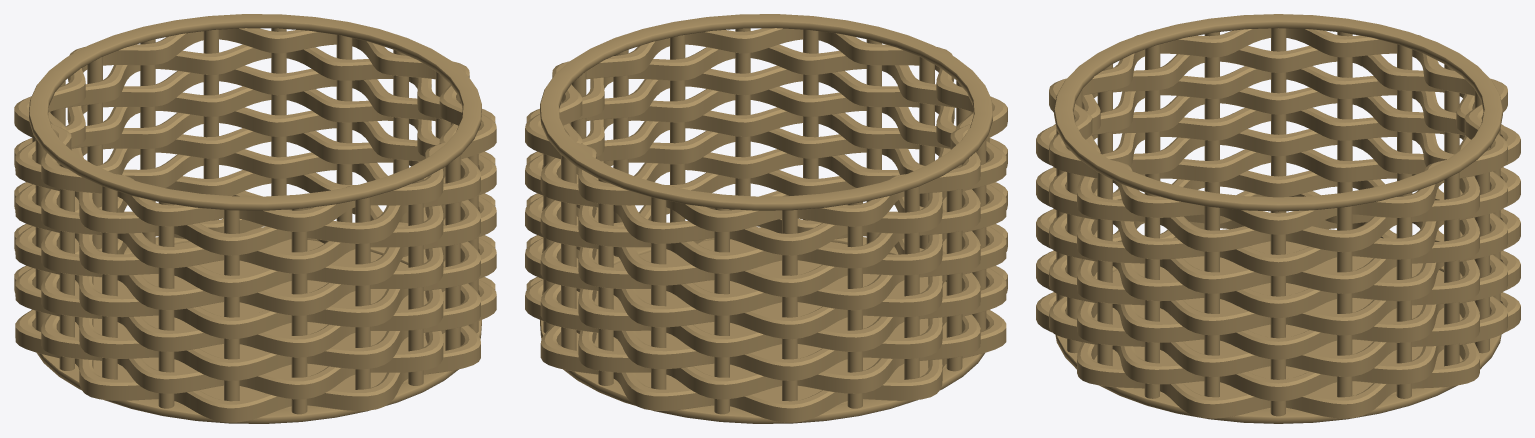
Rendered from basket_1.glb.
3 views of the same model, side by side, from view 1: azimuth 30°, elevation 25°; view 2: azimuth 150°, elevation 25°; view 3: azimuth 270°, elevation 25° (orthographic).
Parts seen in each view (by area): view 1: Wicker basket_Wicker basket_0; view 2: Wicker basket_Wicker basket_0; view 3: Wicker basket_Wicker basket_0.
Boxes of the visible parts, x1,y1,x2,y2 form: Wicker basket_Wicker basket_0: (14, 14, 496, 423); Wicker basket_Wicker basket_0: (525, 14, 1007, 423); Wicker basket_Wicker basket_0: (1036, 14, 1520, 423).
Bounding box in the file's own units: 0.2 × 0.1 × 0.2.
